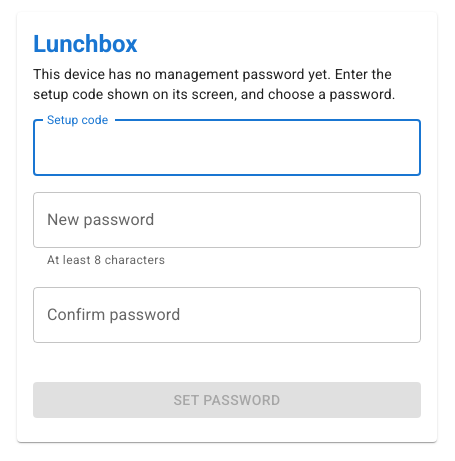
Test: the sign-in screen › will not submit setup until the two passwords agree
Step 1. Type "123456" into the field labelled "Setup code" → point(227, 148), box top-left (33, 120), bottom-right (421, 176)
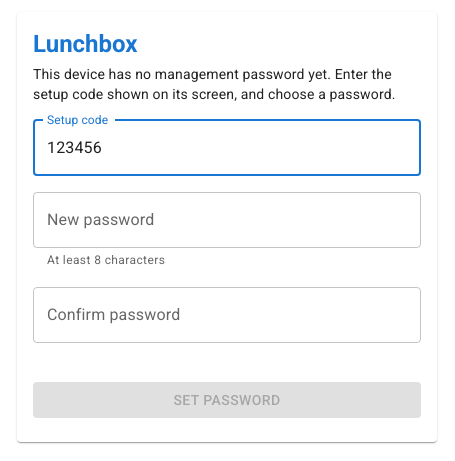
Step 2. Type "a good password" into the password field labelled "New password" → point(227, 220), box top-left (33, 192), bottom-right (421, 248)
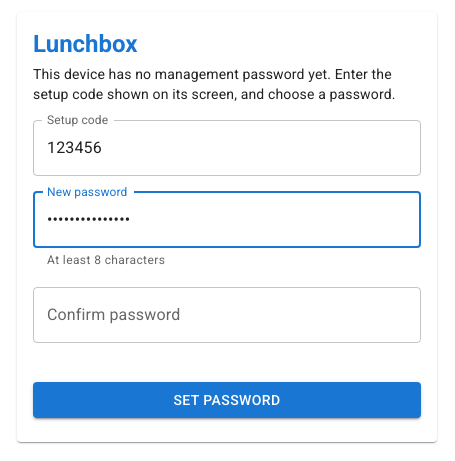
Step 3. Type "a good passwrod" into the password field labelled "Confirm password" → point(227, 315), box top-left (33, 287), bottom-right (421, 343)
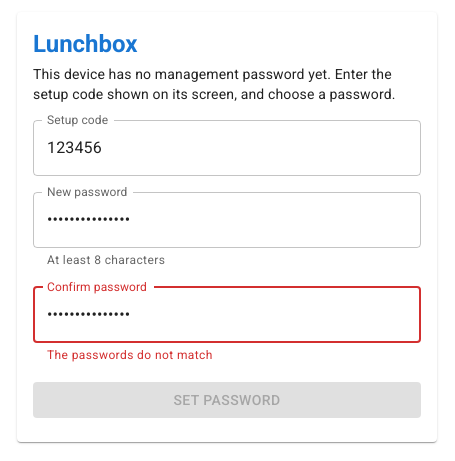
Result: the button "Set password" is disabled at top-left (33, 382), bottom-right (421, 418)
